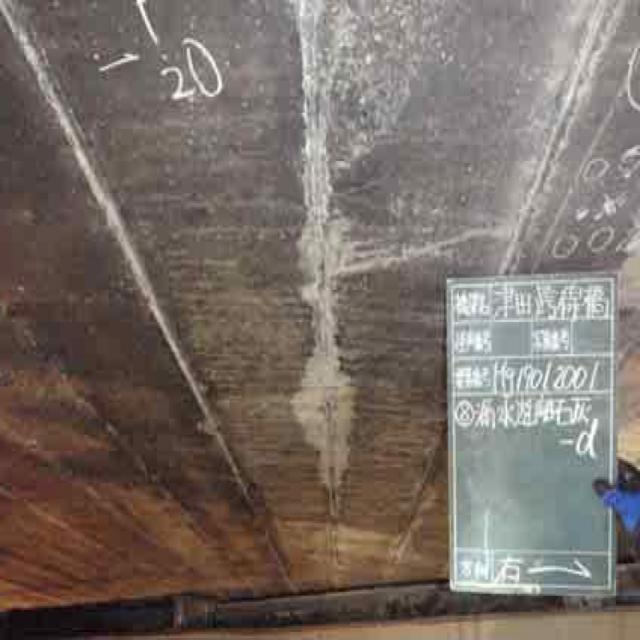freelime: (274, 70, 387, 507)
